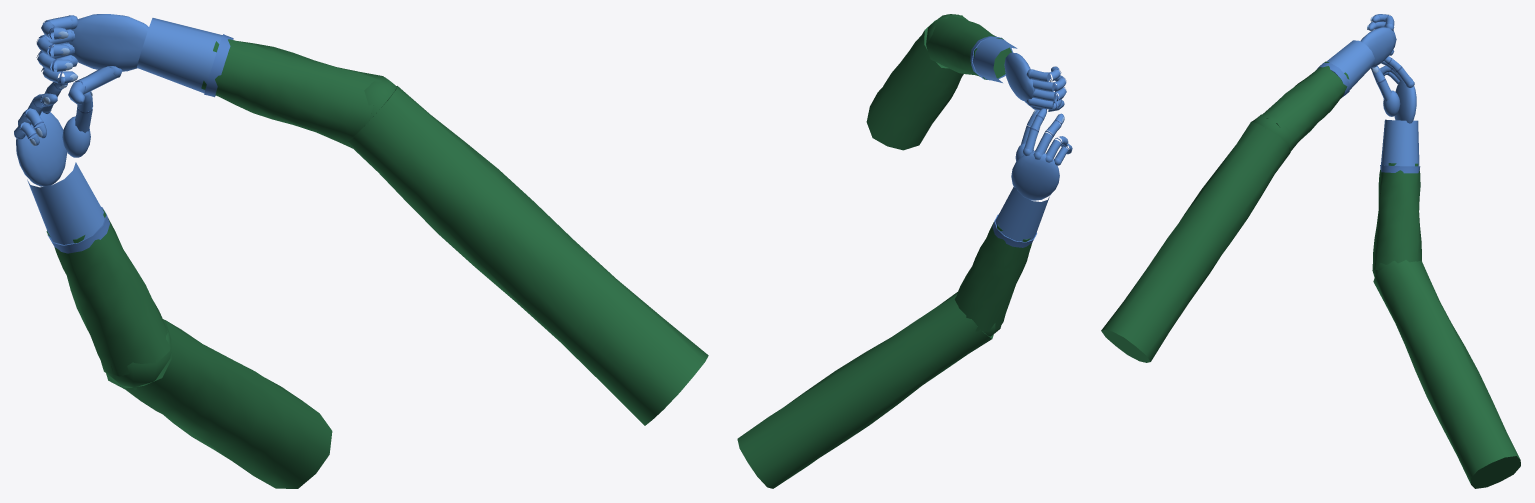
File: hands-Co8nuION.glb
3 renders of one model, left to right at view 1: azimuth 30°, elevation 25°; view 2: azimuth 150°, elevation 25°; view 3: azimuth 270°, elevation 25°, orthographic. The views are drawn at different scales.
Parts seen in each view (by area): view 1: HAND_left_tail_mesh, HAND_right_thermometer_mesh; view 2: HAND_right_thermometer_mesh, HAND_left_tail_mesh; view 3: HAND_right_thermometer_mesh, HAND_left_tail_mesh.
Boxes of the visible parts, box(x1,y1,x2,y2) form: HAND_left_tail_mesh: box(36, 14, 708, 425); HAND_right_thermometer_mesh: box(14, 76, 332, 488); HAND_right_thermometer_mesh: box(737, 108, 1072, 488); HAND_left_tail_mesh: box(866, 14, 1066, 150); HAND_right_thermometer_mesh: box(1371, 56, 1520, 488); HAND_left_tail_mesh: box(1101, 14, 1396, 362).
Bounding box in the file's own units: 0.652 × 0.7798 × 0.7825.
